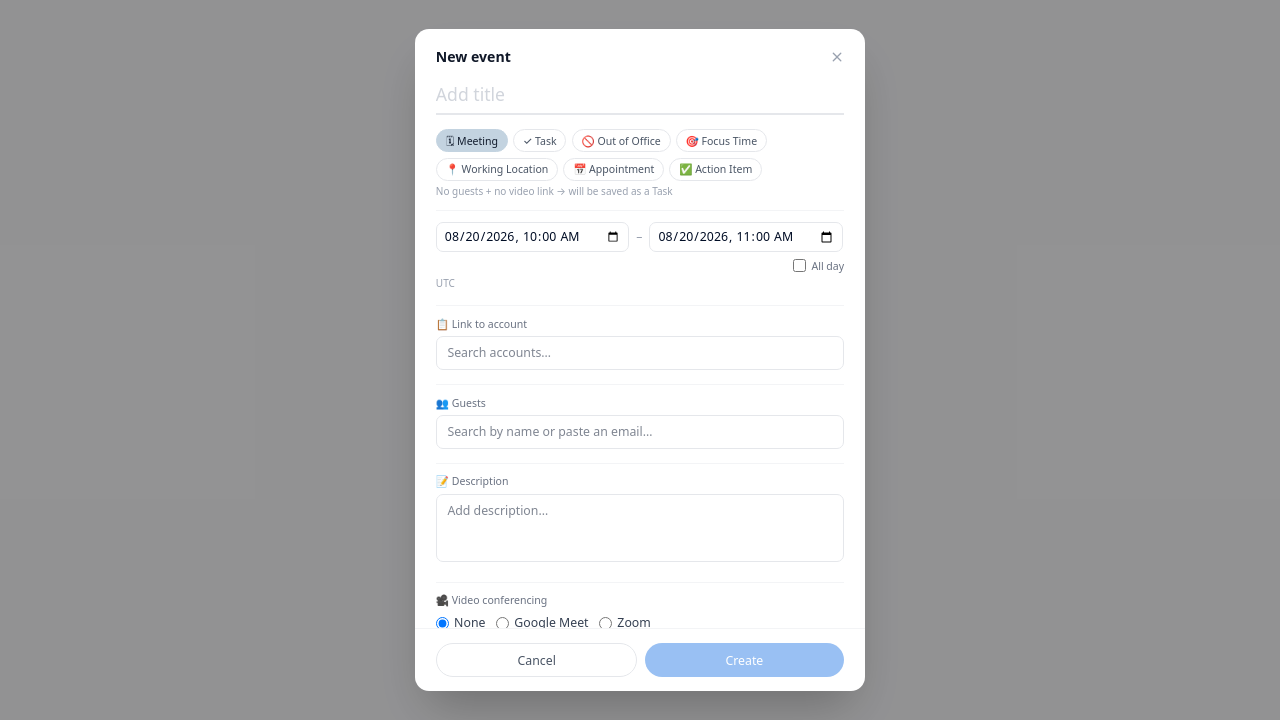
Scenario: CreateEventModal — account picker result list is not truncated › shows all matches when a query matches more than 8 accounts
Type "Acme" into the field with placeholder "Search accounts…" at (640, 353), box left=436, top=336, right=844, bottom=370
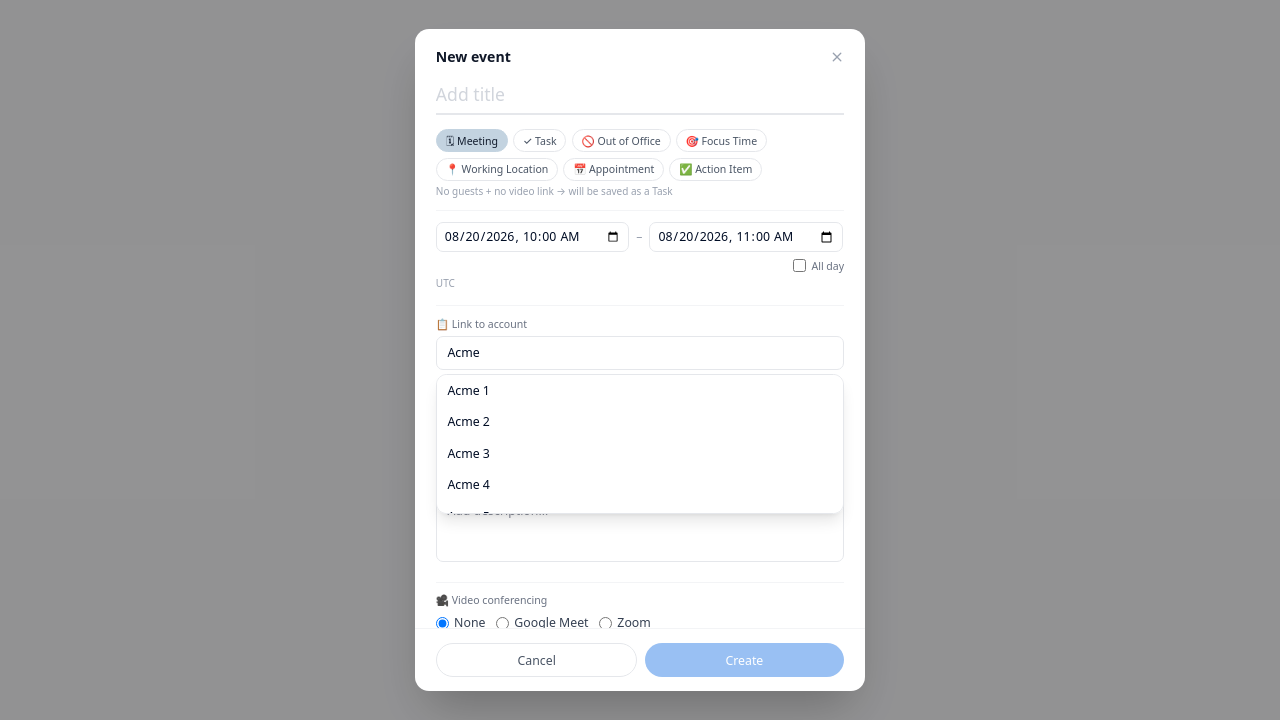
Expected: the number of buttons "Acme 1" is 10
